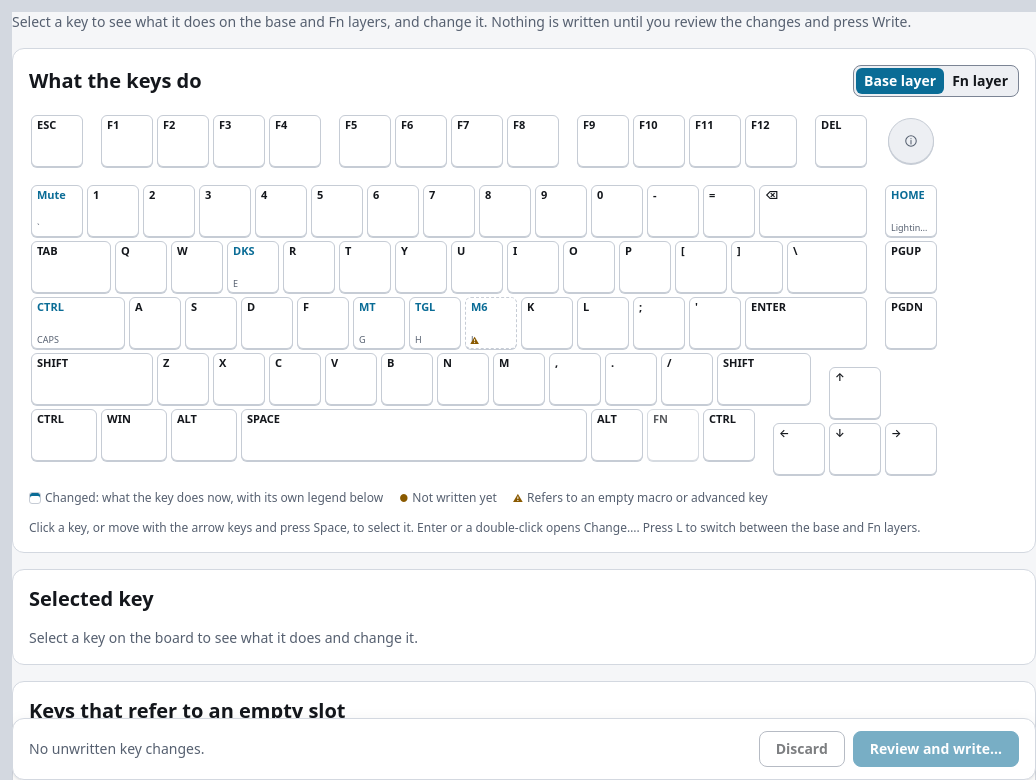
the board › shows what changed keys do, switches layers with L and the control, and announces the layer
Press l in the option "CTRL CAPS", box [31,297,125,349]
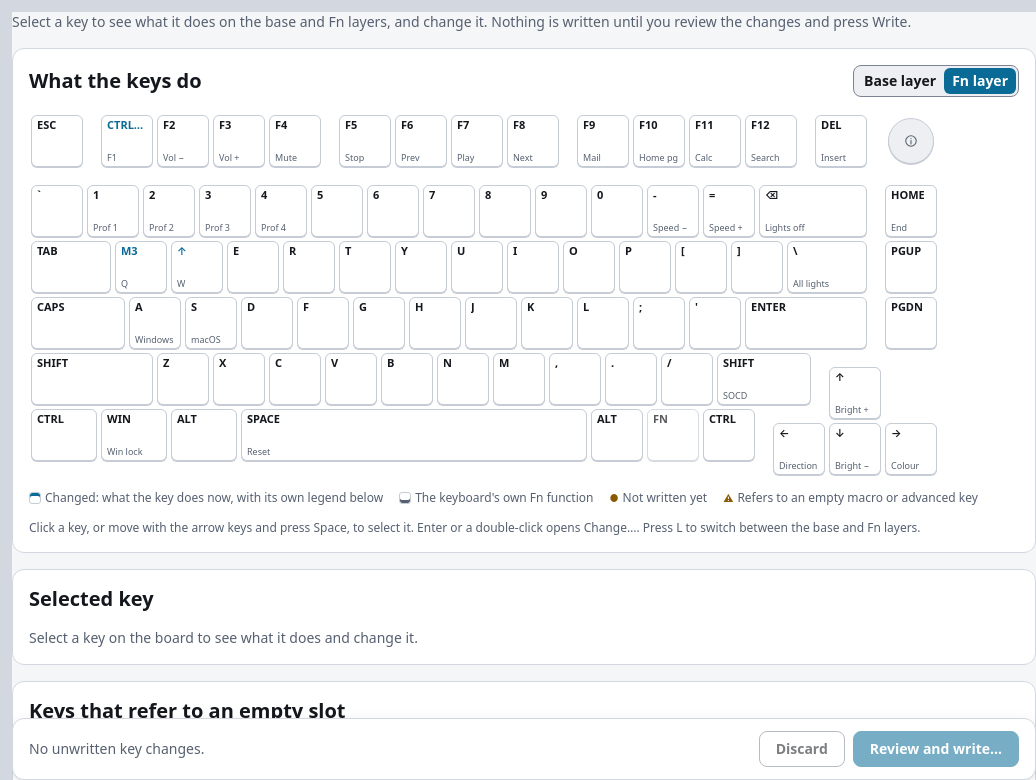
Result: the list named "Keys on the Fn layer" is shown at [29,113,939,477]
Click the radio button labelled "Base layer" at (900, 81), box [856,68,944,94]
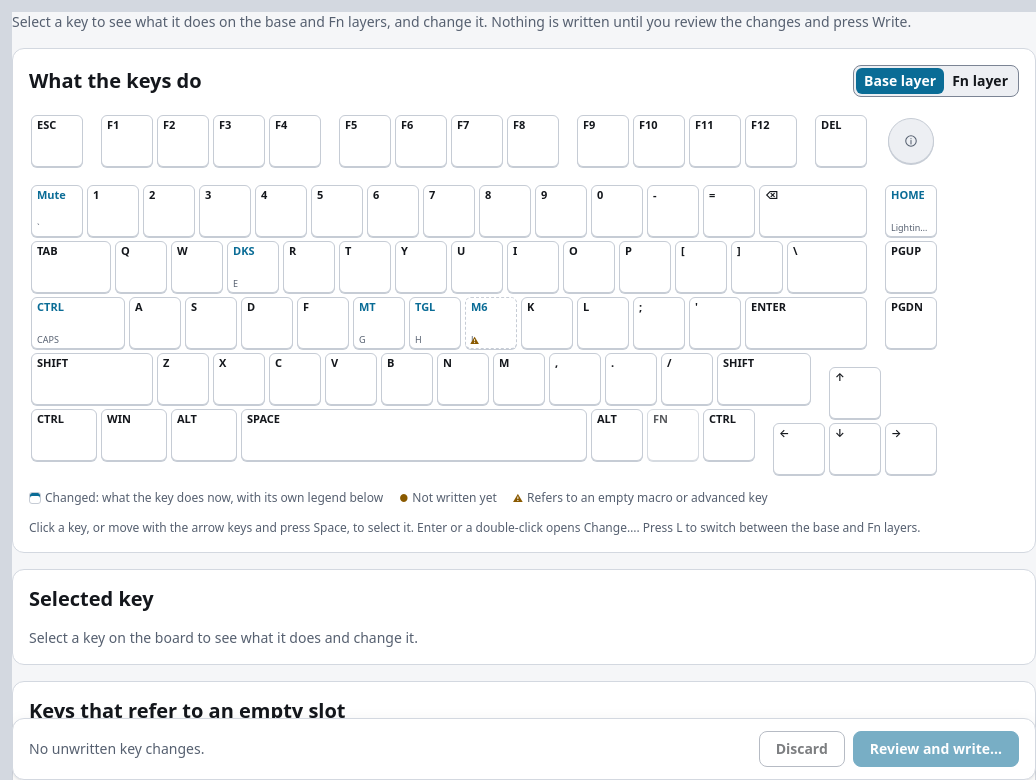
Result: the list named "Keys on the base layer" is shown at [29,113,939,477]
